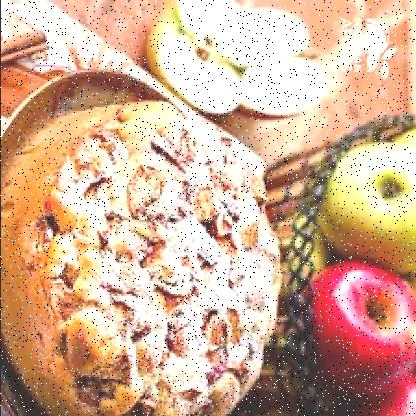apple: (309, 262, 407, 381), (329, 140, 416, 252)
damaged_apple: (143, 3, 256, 116), (232, 11, 324, 124)
